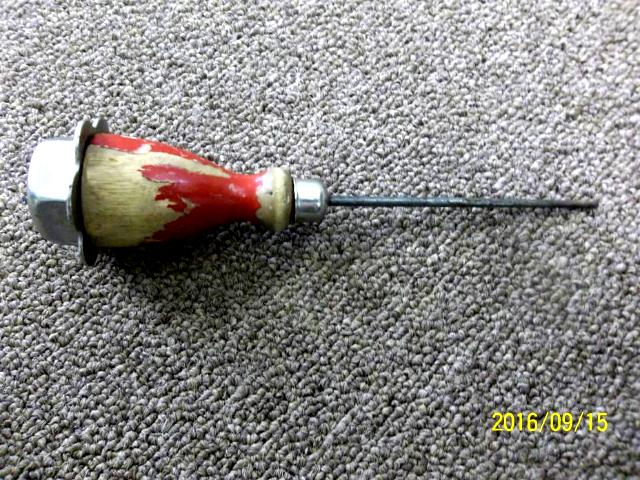ice pick: (27, 117, 599, 265)
